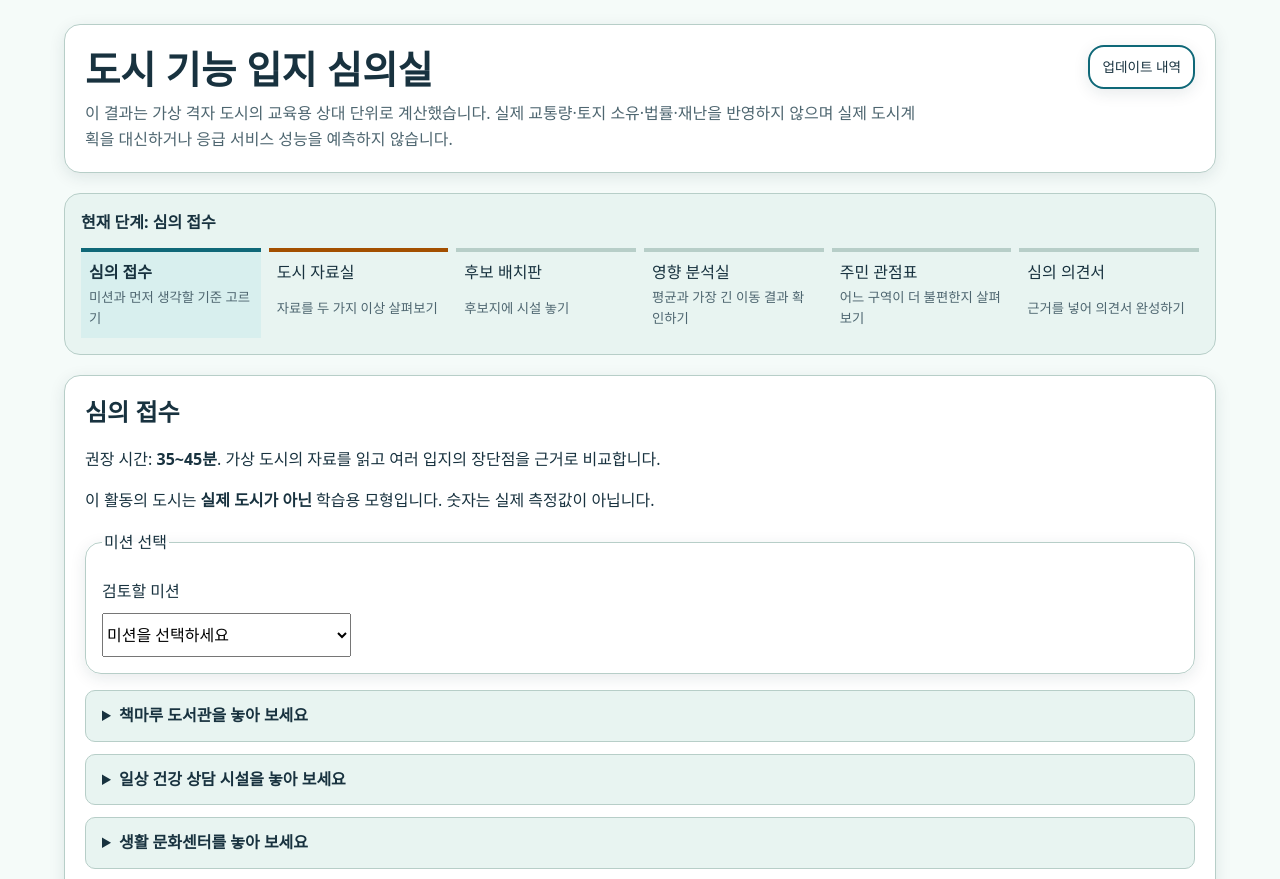
Scenario: ReviewIntake › keeps the selected mission conditions available in a compact disclosure
Step 1. Select "책마루 도서관을 놓아 보세요" in the dropdown named "미션 선택" → (226, 635), box 102,613 -> 351,657
(page scrolled)
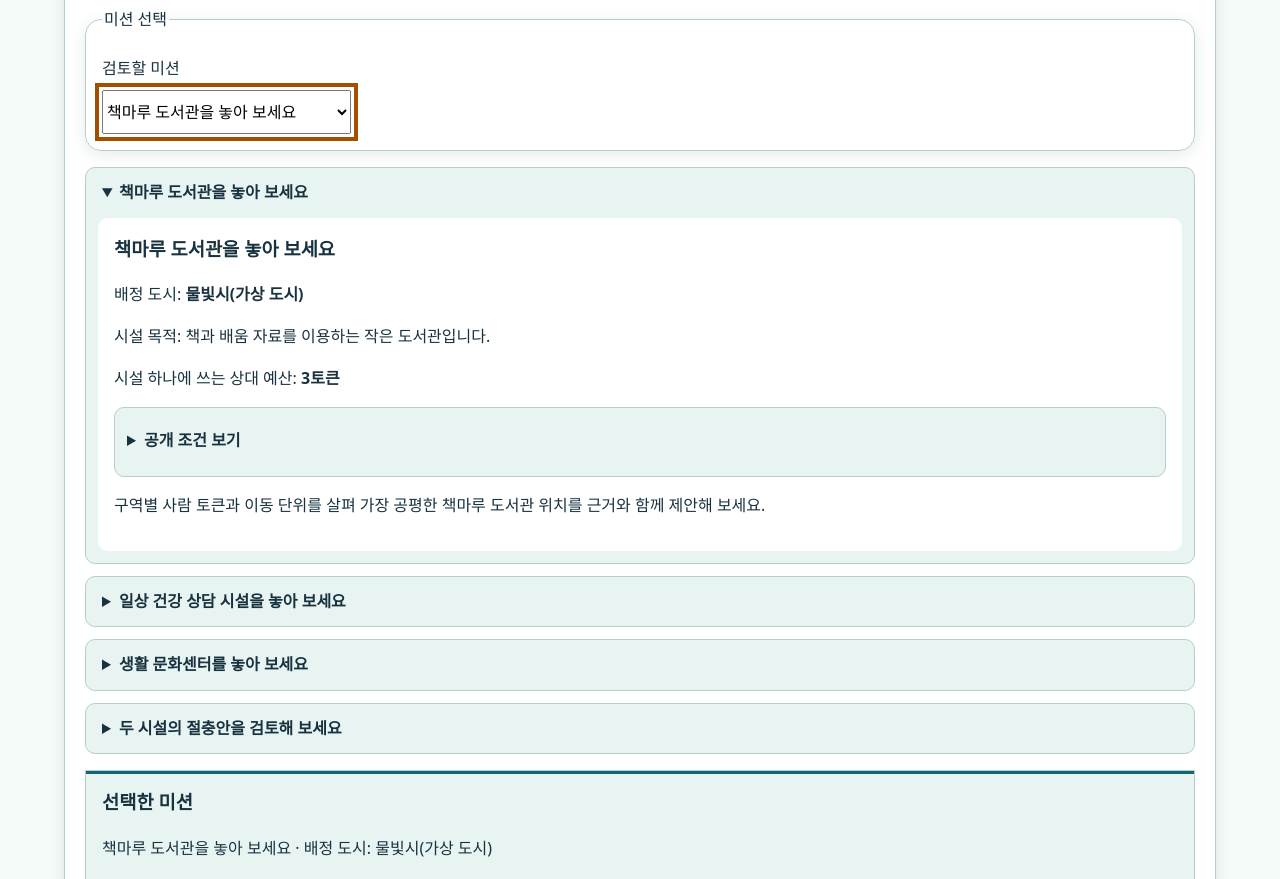
Check: the element named "책마루 도서관을 놓아 보세요 공개 조건" is shown, box 114,407 -> 1166,477
Check: the element named "책마루 도서관을 놓아 보세요 공개 조건" reads "공개 조건 보기", box 144,429 -> 240,451
